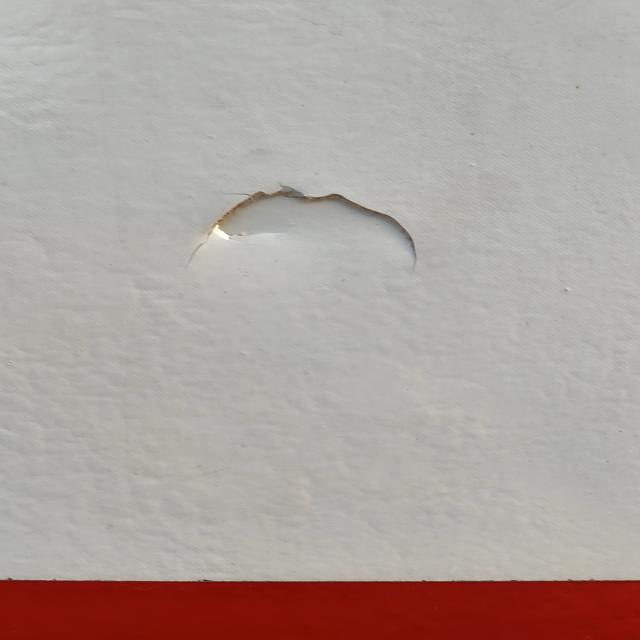Scratches: (165, 161, 431, 280)
